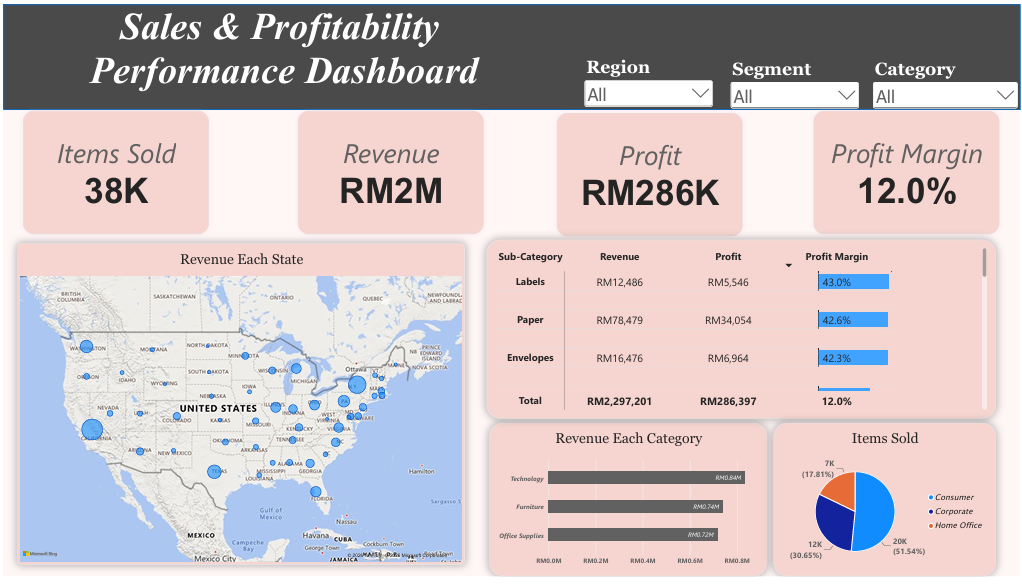

Layout of this report page (visuals, bound fields, positions):
{"tool":"powerbi","page":{"name":"Page 1","canvas":[1920,1080],"ordinal":0},"visuals":[{"type":"shape","box":[0,0,1920,197.8],"z":0},{"type":"cardVisual","fields":{"Data":["_Measures.Total Revenue"]},"box":[544.8,189.6,372,254.4],"z":2},{"type":"cardVisual","fields":{"Data":["_Measures.Total Profit"]},"box":[1034.4,194.4,372,254.4],"z":5},{"type":"cardVisual","fields":{"Data":["_Measures.Average Profit Margin"]},"box":[1519.2,189.6,372,254.4],"z":6},{"type":"cardVisual","fields":{"Data":["_Measures.Total Items Sold"]},"box":[26.4,189.6,372,254.4],"z":7},{"type":"slicer","fields":{"Values":["SampleSuperstore.Region"]},"box":[1092,98.4,252,96],"z":8},{"type":"slicer","fields":{"Values":["SampleSuperstore.Segment"]},"box":[1368,100.8,252,96],"z":9},{"type":"slicer","fields":{"Values":["SampleSuperstore.Category"]},"box":[1636.8,100.8,283.2,96],"z":10},{"type":"clusteredBarChart","title":"Revenue Each Category","fields":{"Category":["SampleSuperstore.Category"],"Y":["_Measures.Total Revenue"]},"box":[916.8,789.6,525.6,290.4],"z":12},{"type":"pivotTable","fields":{"Rows":["SampleSuperstore.Sub-Category"],"Values":["_Measures.Total Revenue","_Measures.Total Profit","_Measures.Average Profit Margin"]},"box":[912,444,962.4,338.4],"z":13},{"type":"map","title":"Revenue Each State","fields":{"Category":["SampleSuperstore.State"],"Size":["_Measures.Total Revenue"]},"box":[26.4,451.2,844.8,607.2],"z":14},{"type":"pieChart","title":"Items Sold","fields":{"Category":["SampleSuperstore.Segment"],"Y":["_Measures.Total Items Sold"]},"box":[1454.4,789.6,420,290.4],"z":15},{"type":"textbox","box":[26.4,0,1008,189.6],"z":16}]}

Visuals, with their boxes in screenshot pixels (x1, y1, x2, y2), scaled from the page's 1920x1080 canvas onto the 1022x584 screenshot:
shape: Rect(0, 0, 1021, 107)
cardVisual - _Measures.Total Revenue: Rect(290, 103, 488, 240)
cardVisual - _Measures.Total Profit: Rect(551, 105, 749, 243)
cardVisual - _Measures.Average Profit Margin: Rect(809, 103, 1007, 240)
cardVisual - _Measures.Total Items Sold: Rect(14, 103, 212, 240)
slicer - SampleSuperstore.Region: Rect(581, 53, 715, 105)
slicer - SampleSuperstore.Segment: Rect(728, 55, 862, 106)
slicer - SampleSuperstore.Category: Rect(871, 55, 1021, 106)
"Revenue Each Category" clusteredBarChart: Rect(488, 427, 768, 583)
pivotTable - SampleSuperstore.Sub-Category x _Measures.Total Revenue: Rect(485, 240, 998, 423)
"Revenue Each State" map: Rect(14, 244, 464, 572)
"Items Sold" pieChart: Rect(774, 427, 998, 583)
textbox: Rect(14, 0, 551, 103)
